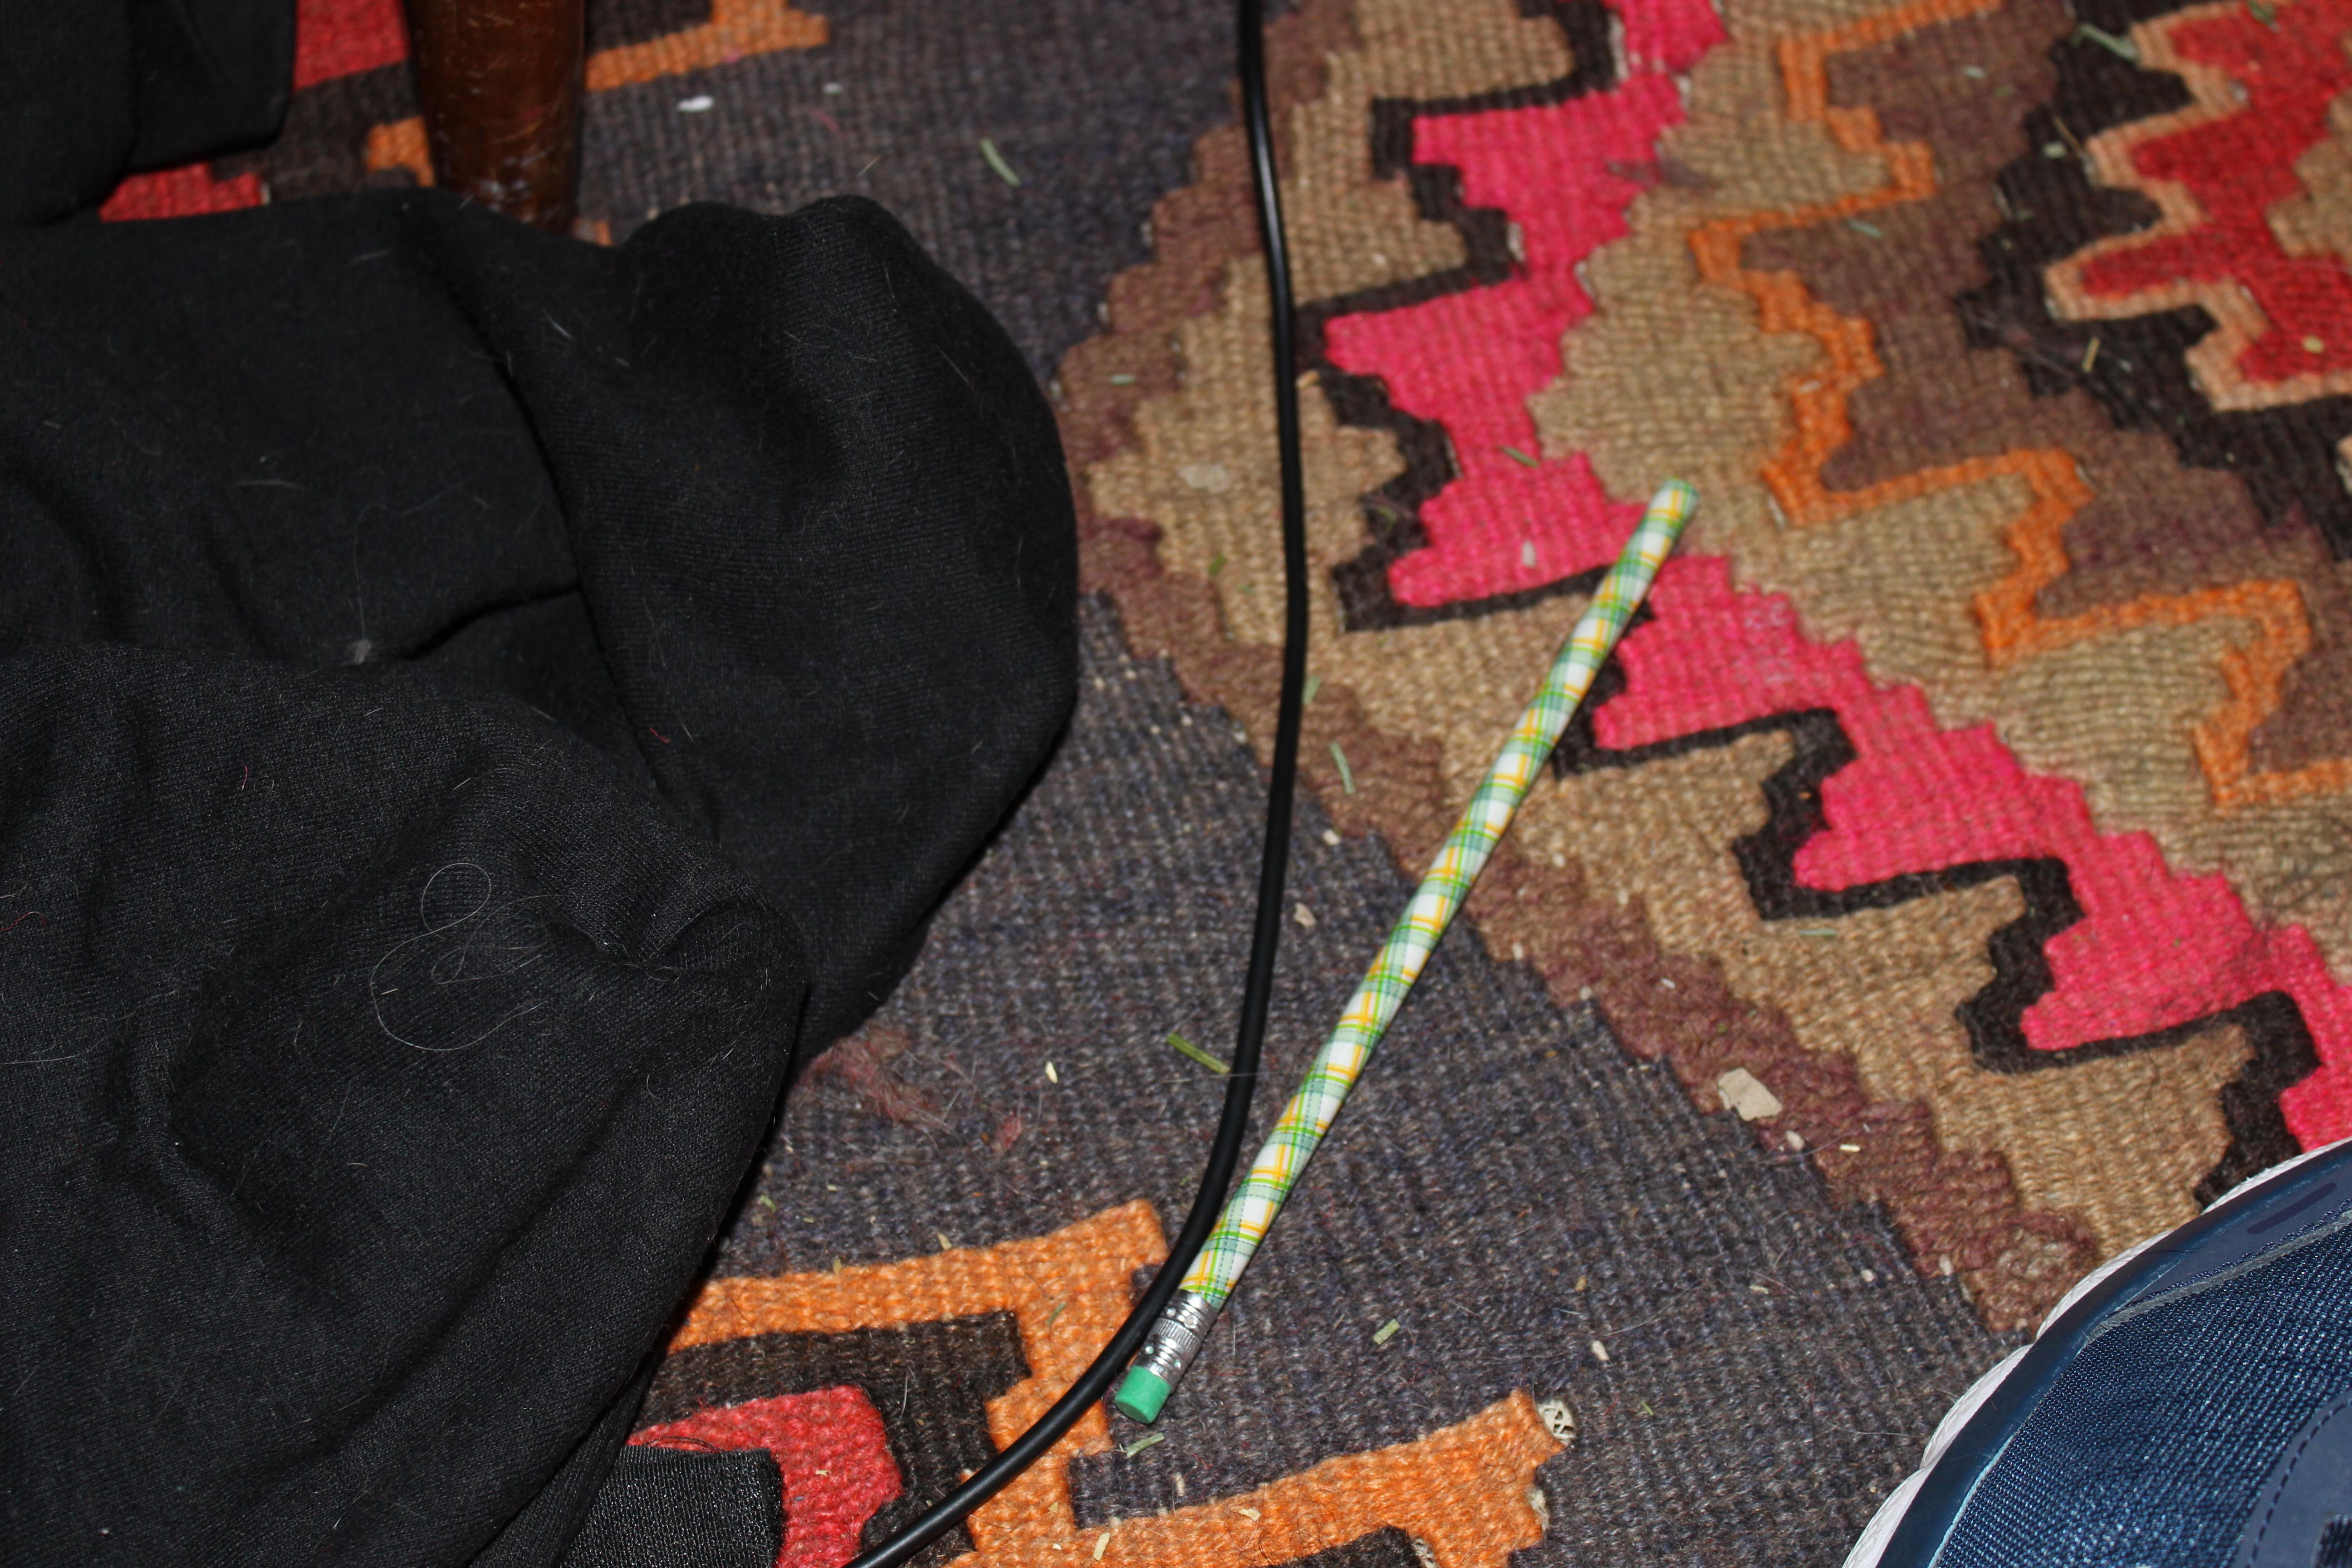plaidPencil: (1095, 448, 1722, 1442)
